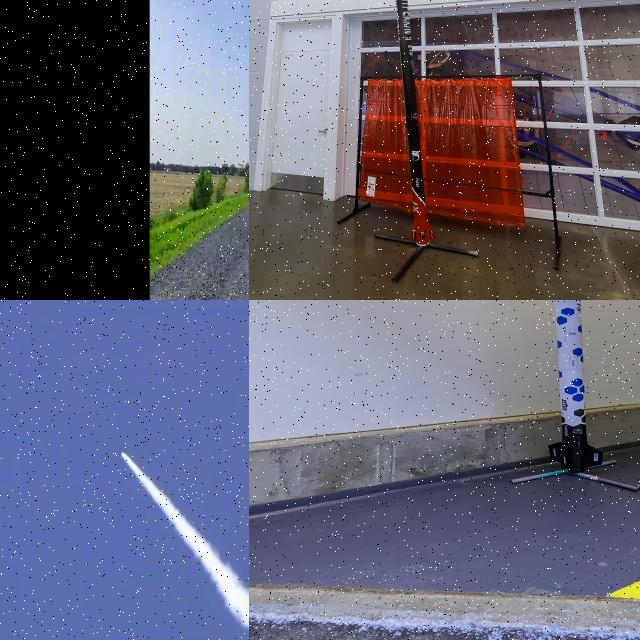Rocket: (395, 0, 437, 245), (548, 300, 603, 473), (120, 450, 124, 455)
